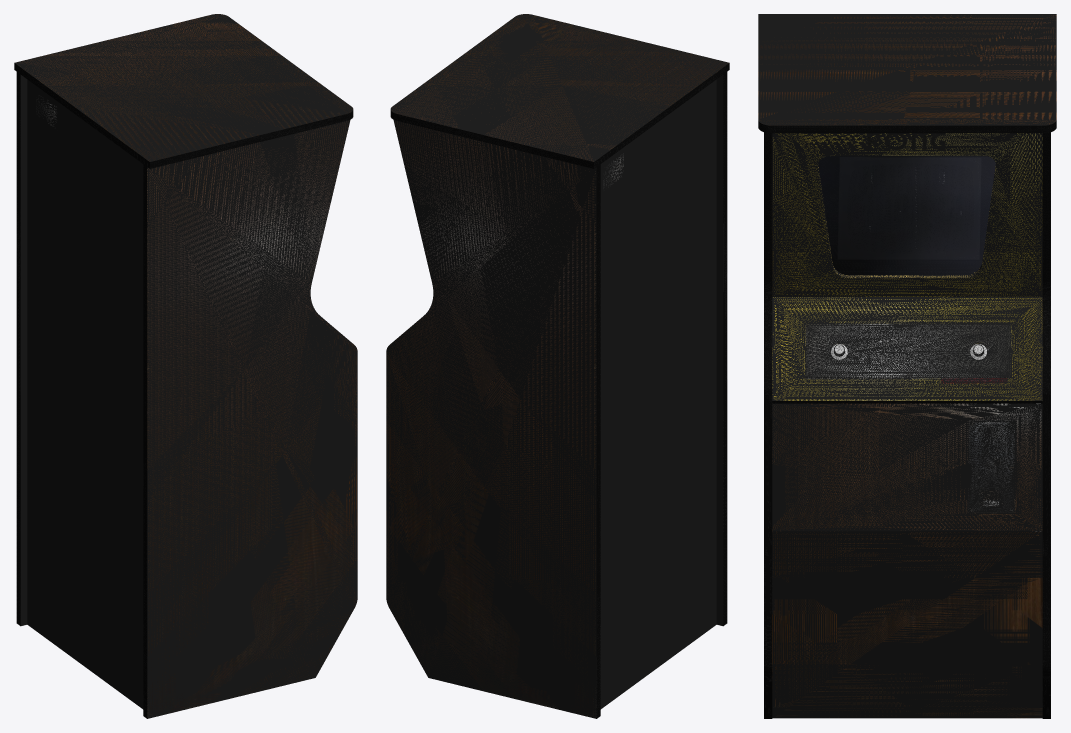
The model's file is Cabinet.fbx.
The picture shows the model from 3 angles, left to right: view 1: azimuth 30°, elevation 25°; view 2: azimuth 150°, elevation 25°; view 3: azimuth 270°, elevation 25°; orthographic projection. The views are drawn at different scales.
Parts seen in each view (by area): view 1: pong1; view 2: pong1; view 3: pong1.
Boxes of the visible parts, <box> form: pong1: <box>14,14,357,718</box>; pong1: <box>386,14,729,718</box>; pong1: <box>758,14,1056,718</box>.
Size of the model in its own units: 23.75 by 60.25 by 26.5.
